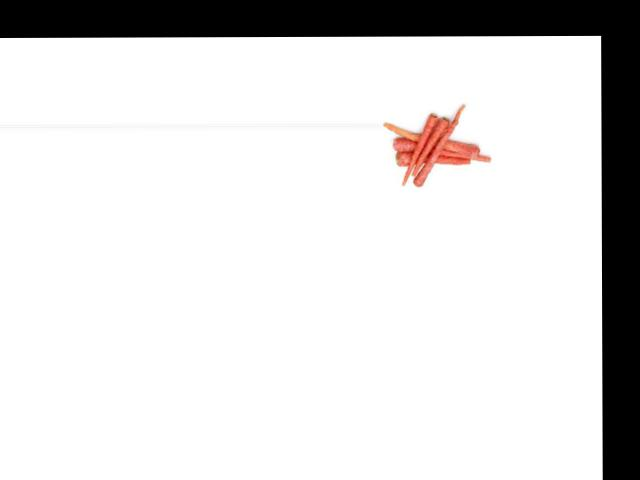carrot: (400, 115, 434, 185)
